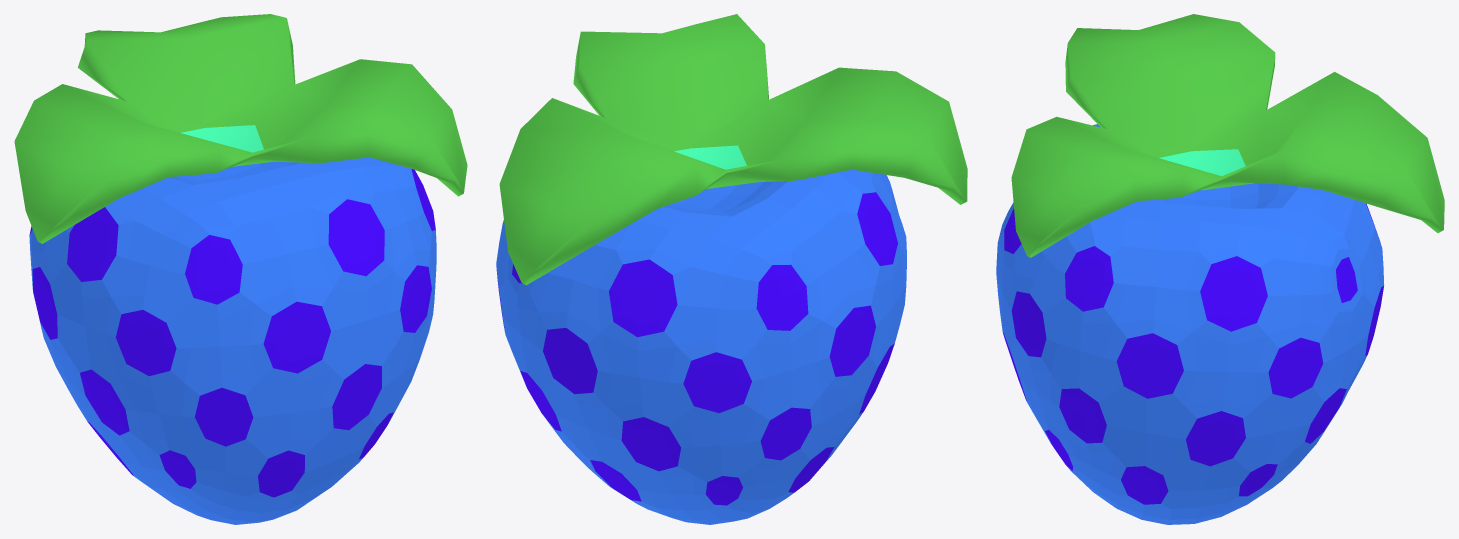
The model's file is Prop_Berry.glb.
3 renders of one model, left to right at view 1: azimuth 30°, elevation 25°; view 2: azimuth 150°, elevation 25°; view 3: azimuth 270°, elevation 25°, orthographic. The views are drawn at different scales.
Parts seen in each view (by area): view 1: Berry.001; view 2: Berry.001; view 3: Berry.001.
Part boxes in pixels (x1,y1,x2,y2): Berry.001: [14, 14, 467, 524]; Berry.001: [496, 14, 967, 524]; Berry.001: [996, 14, 1444, 524].
Size of the model in its own units: 1.69 by 1.71 by 1.69.
1 material, 1 textured.
